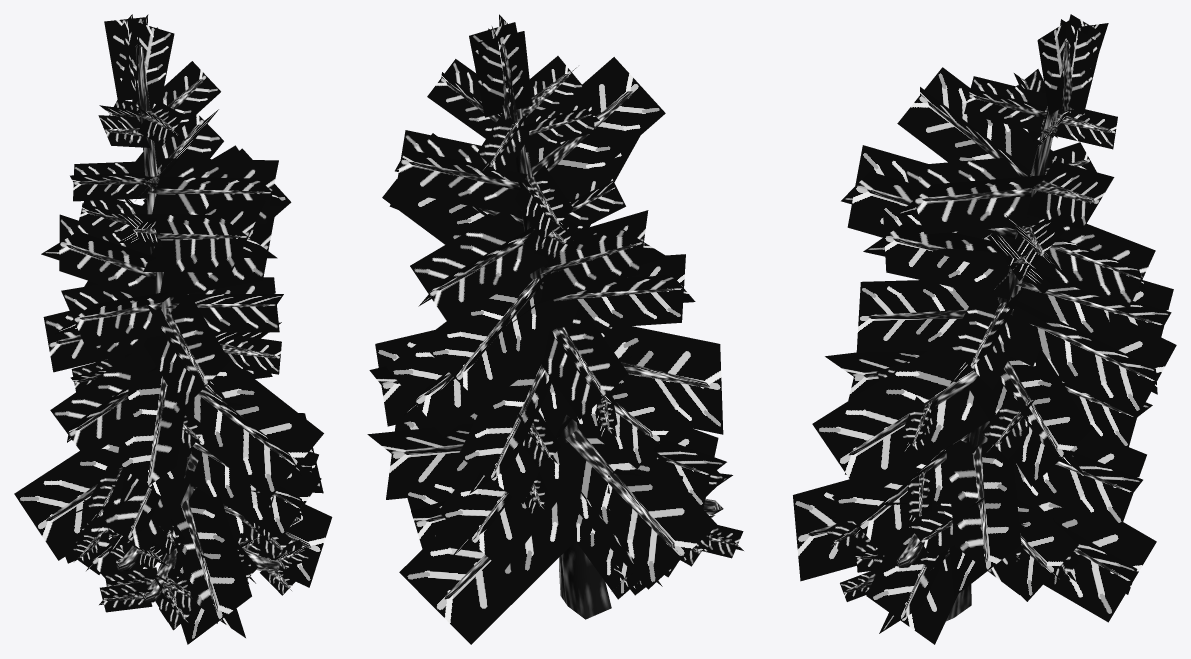
The model's file is AraTree07a.glb.
The picture shows the model from 3 angles, left to right: view 1: azimuth 30°, elevation 25°; view 2: azimuth 150°, elevation 25°; view 3: azimuth 270°, elevation 25°; orthographic projection. The views are drawn at different scales.
Parts seen in each view (by area): view 1: AraTree07a_twigs; view 2: AraTree07a_twigs; view 3: AraTree07a_twigs.
Boxes of the visible parts, <box> form: AraTree07a_twigs: <box>14,14,332,644</box>; AraTree07a_twigs: <box>367,14,743,644</box>; AraTree07a_twigs: <box>793,14,1176,644</box>.
Bounding box in the file's own units: 1.95 × 3.47 × 2.11.
Materials: 2 (2 with a texture image).
